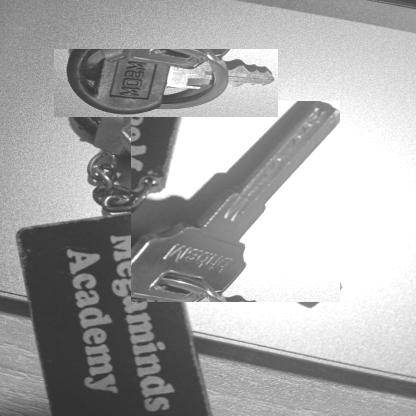key: (131, 101, 340, 302), (54, 50, 278, 118)
